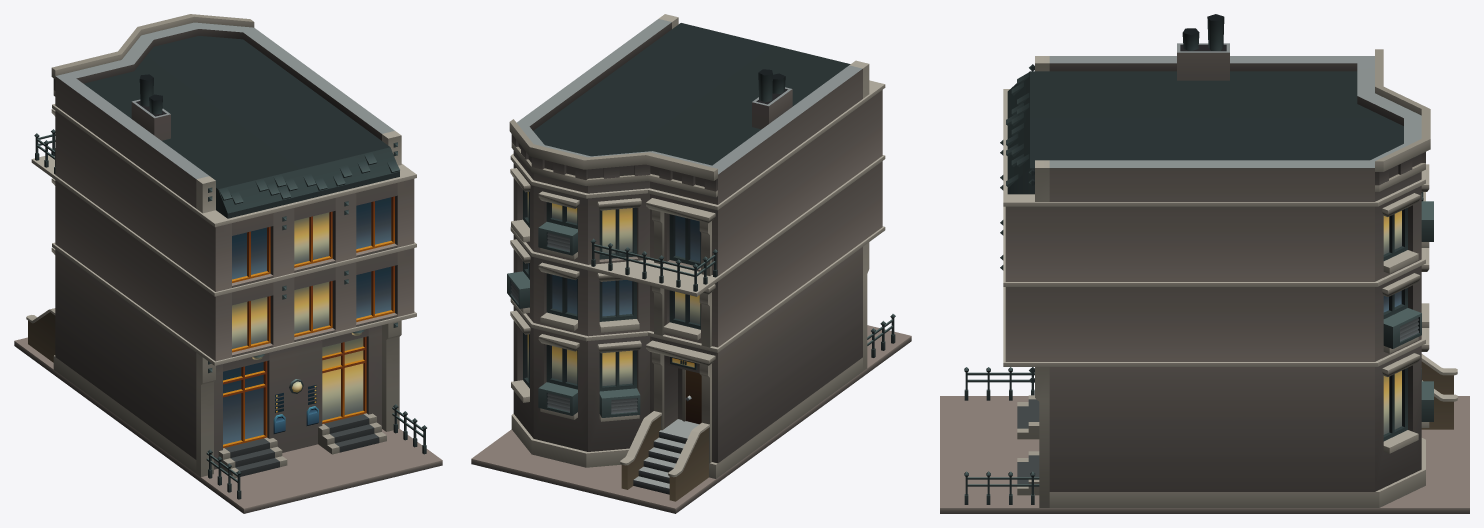
The model's file is Brownstone_4A.fbx.
The picture shows the model from 3 angles, left to right: view 1: azimuth 30°, elevation 25°; view 2: azimuth 150°, elevation 25°; view 3: azimuth 270°, elevation 25°; orthographic projection. The views are drawn at different scales.
Visible parts, largest first — view 1: Brownstone_4A, Brownstone_4A_Window_Lights; view 2: Brownstone_4A, Brownstone_4A_Window_Lights; view 3: Brownstone_4A, Brownstone_4A_Window_Lights.
Part boxes in pixels (<box>): Brownstone_4A: <box>14,14,442,513</box>; Brownstone_4A_Window_Lights: <box>232,212,363,420</box>; Brownstone_4A: <box>471,14,911,513</box>; Brownstone_4A_Window_Lights: <box>527,192,700,385</box>; Brownstone_4A: <box>940,14,1469,513</box>; Brownstone_4A_Window_Lights: <box>1383,210,1401,434</box>.
Size of the model in its own units: 1220 by 1983 by 2400.
